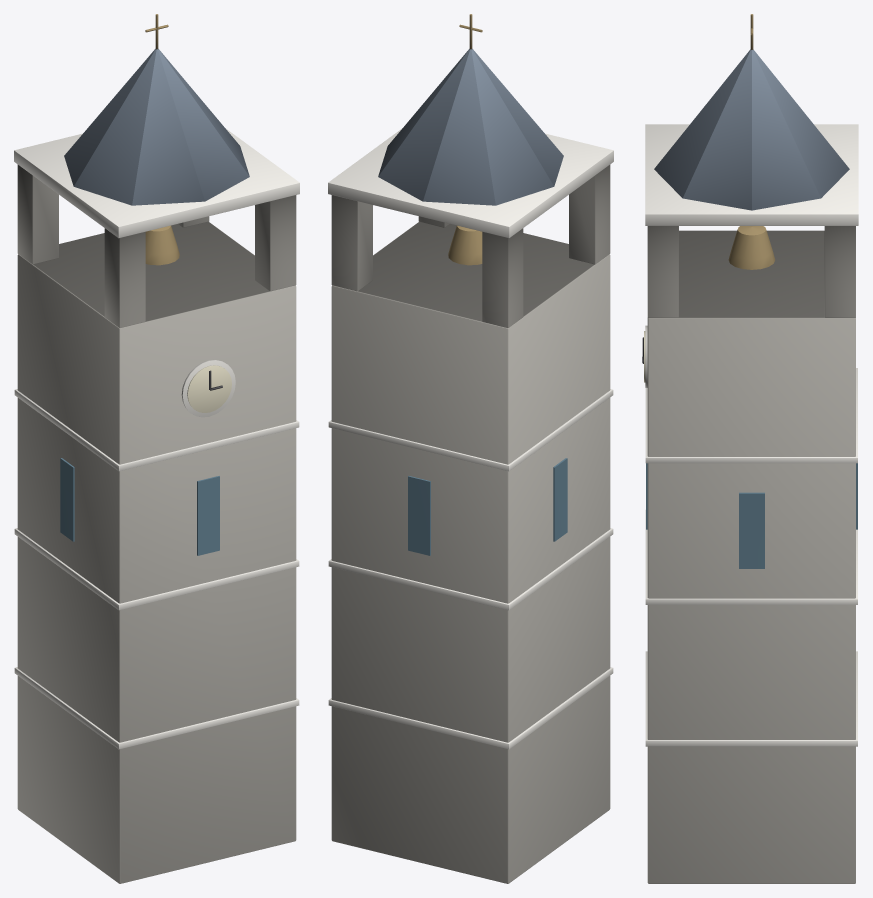
File: church.glb
3 views of the same model, side by side, from view 1: azimuth 30°, elevation 25°; view 2: azimuth 150°, elevation 25°; view 3: azimuth 270°, elevation 25° (orthographic).
Visible parts, largest first — view 1: boat_stone2, boat_tile2, boat_trim, boat_window, boat_lampglass, boat_brass; view 2: boat_stone2, boat_tile2, boat_trim, boat_window, boat_brass; view 3: boat_stone2, boat_tile2, boat_trim, boat_window, boat_brass.
Boxes of the visible parts, x1,y1,x2,y2 form: boat_stone2: (17,164,296,883); boat_tile2: (64,49,249,205); boat_trim: (14,129,299,749); boat_window: (60,458,219,555); boat_lampglass: (187,365,231,412); boat_brass: (145,14,179,265); boat_stone2: (331,164,610,883); boat_tile2: (378,49,563,205); boat_trim: (328,129,613,749); boat_window: (408,458,567,555); boat_brass: (448,14,482,265); boat_stone2: (647,226,855,883); boat_tile2: (654,49,849,210); boat_trim: (645,124,858,746); boat_window: (646,463,857,568); boat_brass: (728,14,775,269).
Bounding box in the file's own units: 8.2 × 35 × 8.31.
